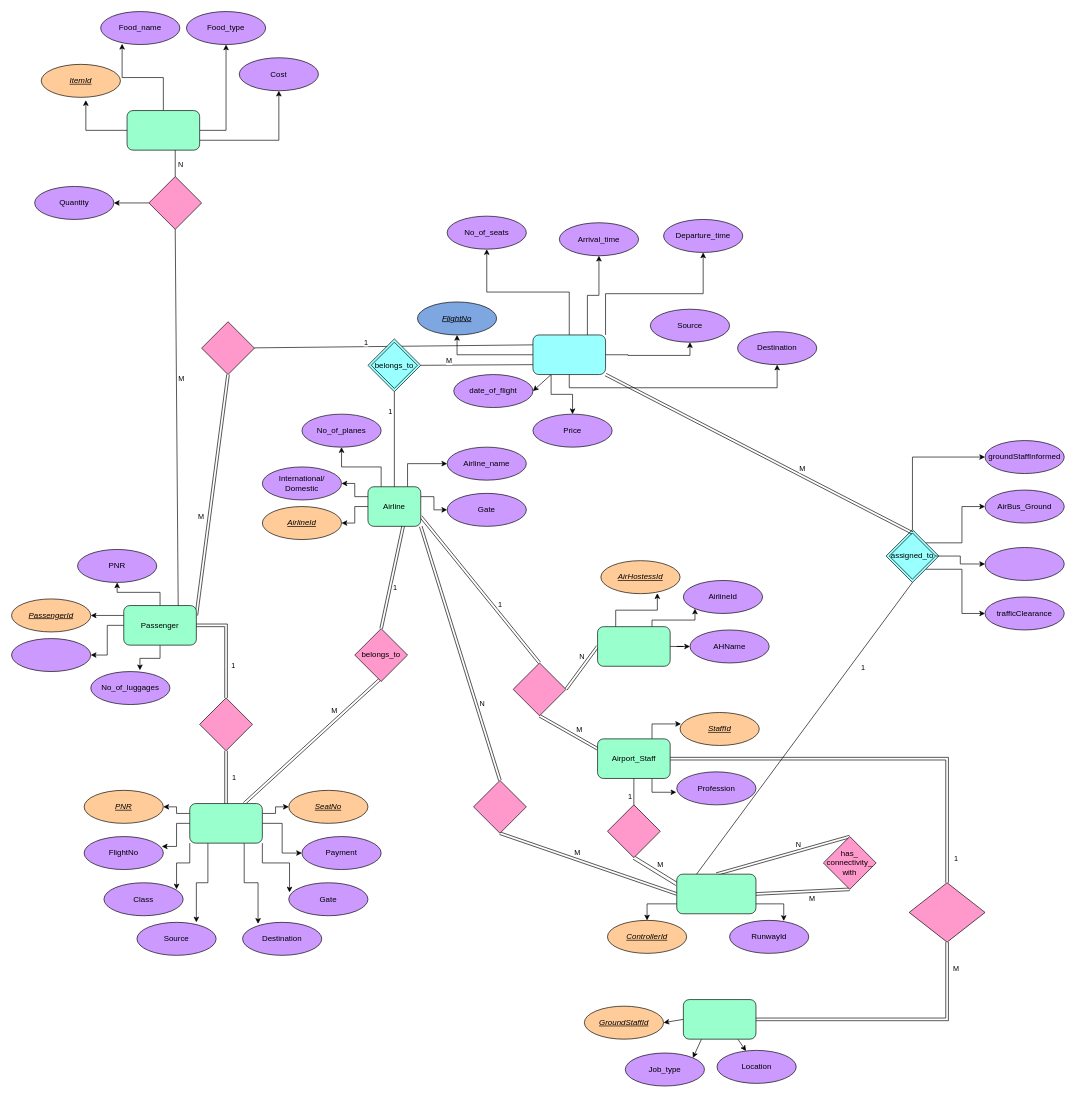
Image size: 1076x1098. Some labels were removed from this diagram. Here are the shapes that lost their labels. From the top down, the centre of each, then its label:
(x=163, y=130): Food
(x=175, y=202): orders
(x=227, y=348): chooses
(x=569, y=354): Flight
(x=1024, y=563): runwayAssigned
(x=51, y=655): Name
(x=633, y=646): Air_Hostess
(x=539, y=689): works_for
(x=225, y=724): books
(x=225, y=823): Ticket
(x=499, y=806): gives_ diresctions_ to
(x=633, y=831): is_a_part_of
(x=716, y=894): Air_Traffic_Controller
(x=946, y=912): is_in_contact_with
(x=719, y=1019): Ground_Staff
